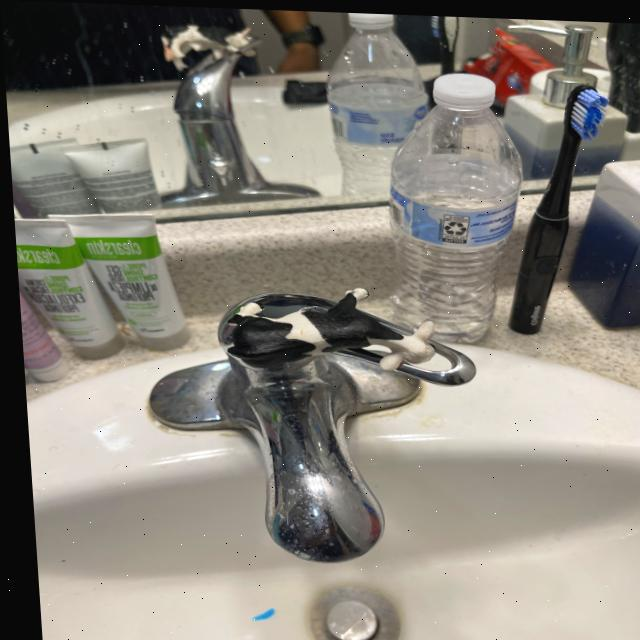cow: (224, 286, 431, 368)
